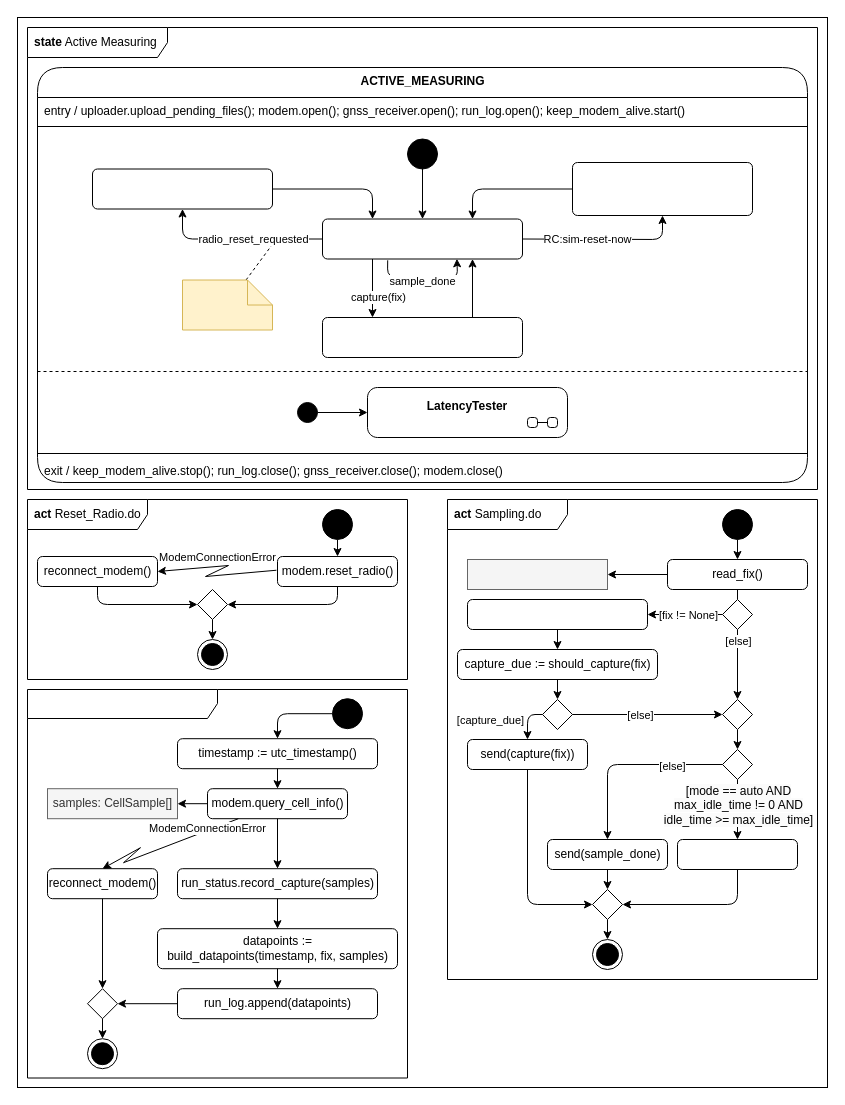
Image size: 845x1105. Some labels were removed from this diagram. The box of each missing label's shape, as (x1, y1, x2, y2) in pixels:
act Capturing.do(fix: GNSSFix): (26, 688, 408, 1078)
Capturing do / Capturing.do: (322, 316, 522, 358)
fix: GNSSFix | None: (466, 558, 608, 590)
from LinkWatchdog: (182, 279, 272, 330)
Reset_Radio do / Reset_Radio.do: (92, 168, 272, 209)
Reset_SIM do / on_sim_reset(); modem.close(); modem.open(): (572, 162, 752, 216)
Sampling do / Sampling.do: (322, 218, 522, 259)
send(idle_expired): (676, 838, 798, 870)
track_genuine_movement(fix): (466, 598, 648, 630)
